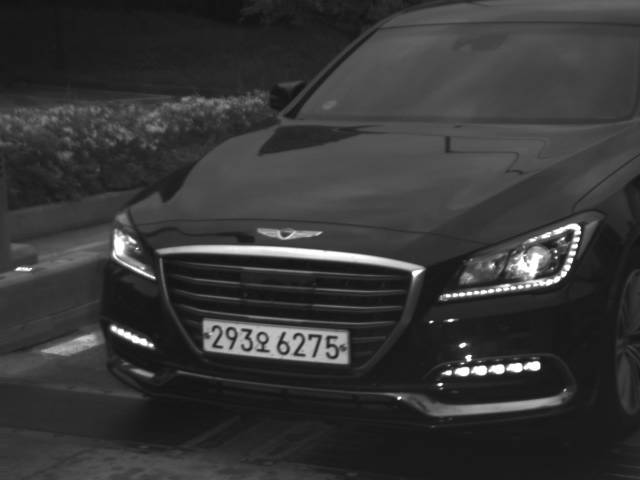car: (100, 1, 640, 438)
plate: (201, 318, 352, 367)
